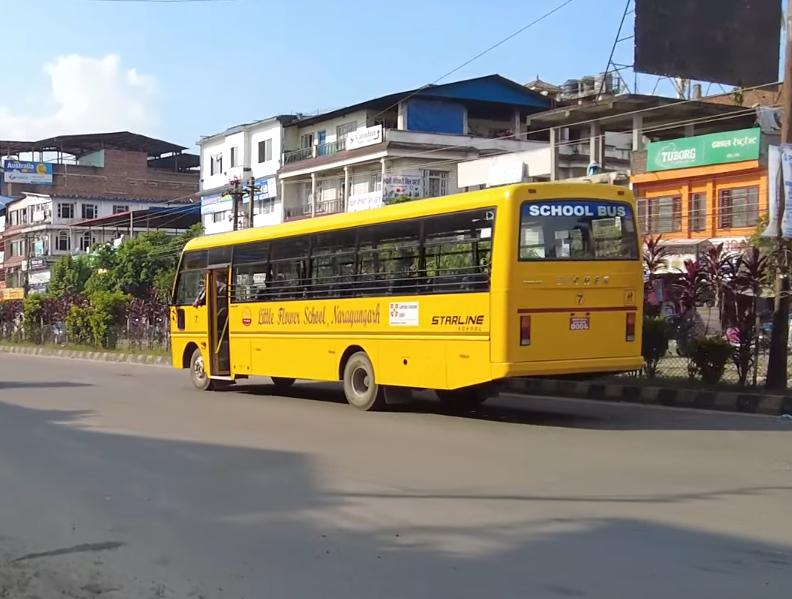school_bus: (166, 179, 649, 415)
